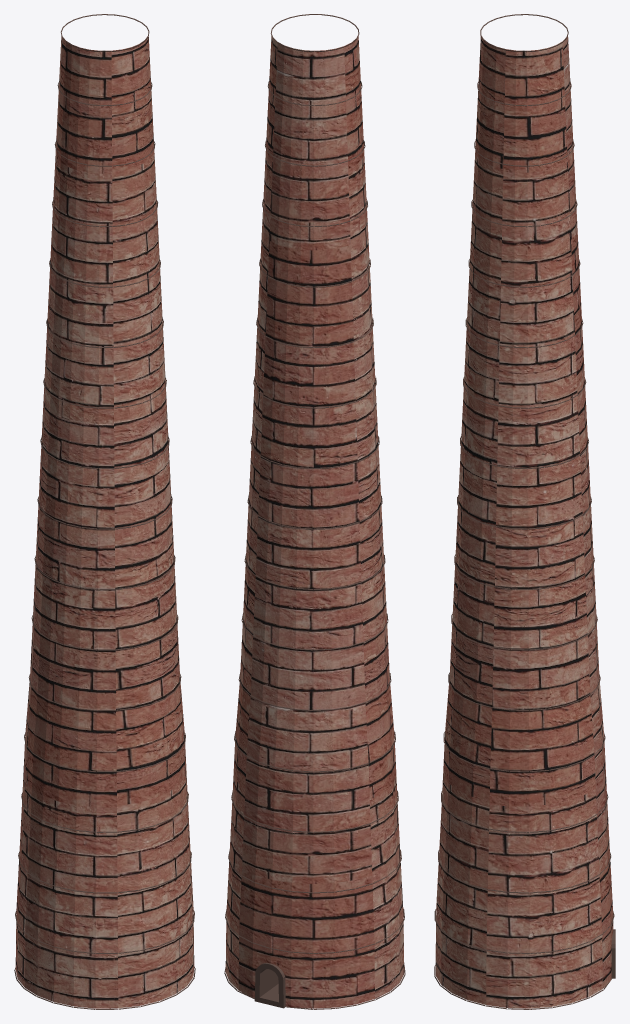
The model's file is pijp_groot.glb.
3 renders of one model, left to right at view 1: azimuth 30°, elevation 25°; view 2: azimuth 150°, elevation 25°; view 3: azimuth 270°, elevation 25°, orthographic.
Visible parts, largest first — view 1: pijp, randen; view 2: pijp, randen, inkeping; view 3: pijp, randen.
Boxes of the visible parts, left/top/right/bottom form: pijp: left=15, top=31, right=194, bottom=1008; randen: left=14, top=14, right=195, bottom=1009; pijp: left=225, top=34, right=404, bottom=1008; randen: left=224, top=14, right=405, bottom=1009; inkeping: left=254, top=962, right=285, bottom=1008; pijp: left=435, top=34, right=613, bottom=1008; randen: left=434, top=14, right=614, bottom=1009.
Size of the model in its own units: 3.24 by 18.5 by 3.24.
2 materials, 1 textured.
